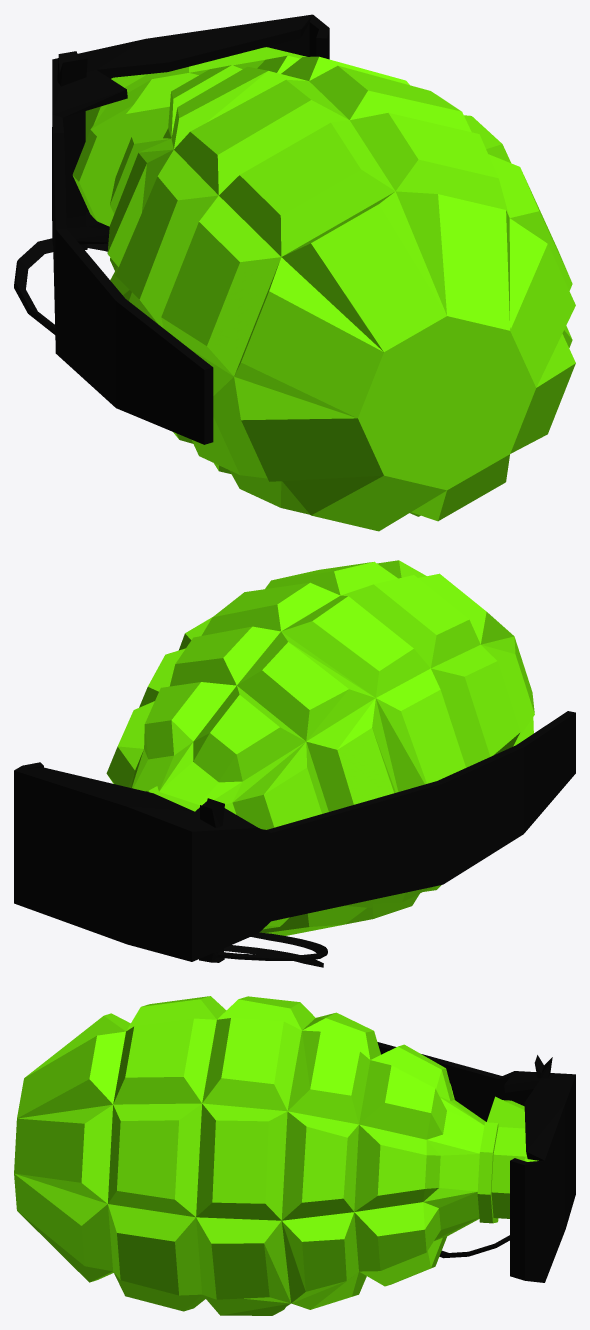
The model's file is ToyObject_194.fbx.
3 renders of one model, top to bottom at view 1: azimuth 30°, elevation 25°; view 2: azimuth 150°, elevation 25°; view 3: azimuth 270°, elevation 25°, orthographic. The views are drawn at different scales.
Parts seen in each view (by area): view 1: Object.019; view 2: Object.019; view 3: Object.019.
Boxes of the visible parts, box(x1,y1,x2,y2) form: Object.019: box(14, 14, 575, 531); Object.019: box(14, 560, 575, 967); Object.019: box(14, 996, 575, 1315).
Size of the model in its own units: 0.1142 by 0.101 by 0.1748.
